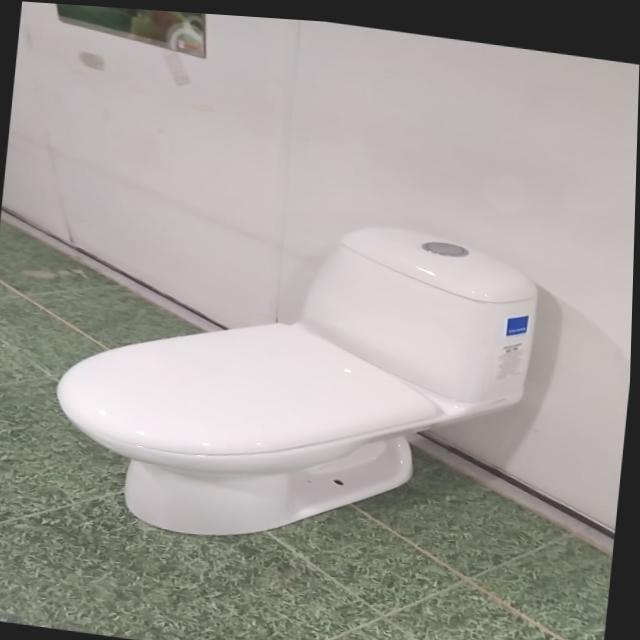toilet: (44, 179, 546, 572)
